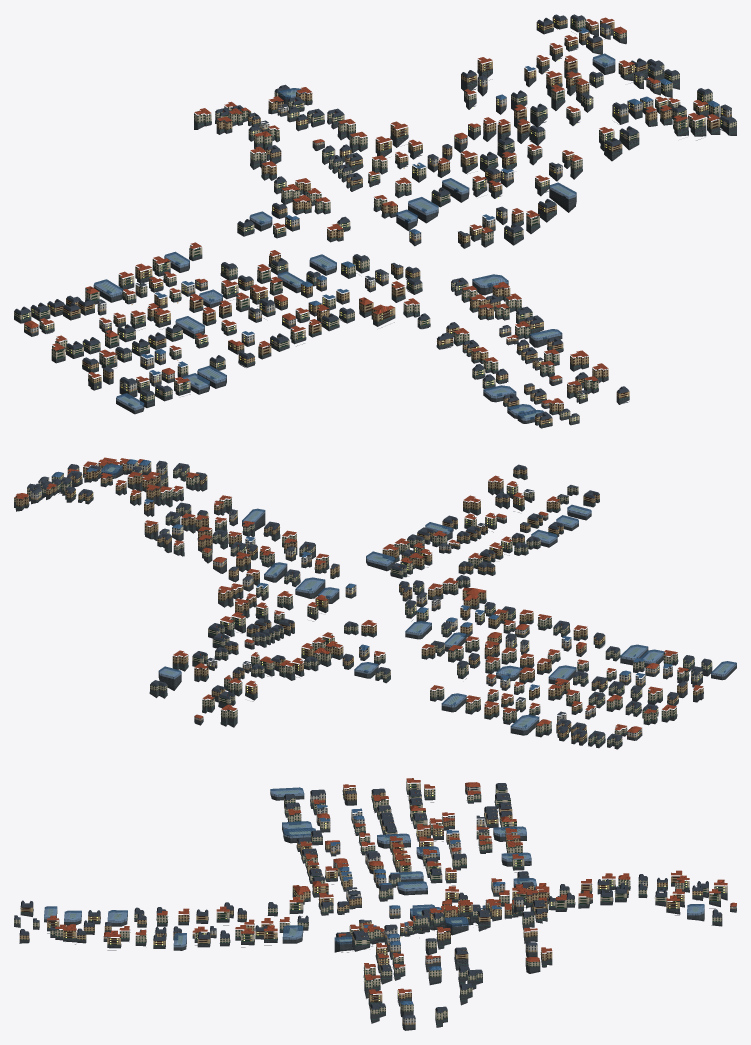
Rendered from osm_buildings_T_E02_N02_Q4.glb.
The picture shows the model from 3 angles, top to bottom: view 1: azimuth 30°, elevation 25°; view 2: azimuth 150°, elevation 25°; view 3: azimuth 270°, elevation 25°; orthographic projection. The views are drawn at different scales.
Parts seen in each view (by area): view 1: OSM_T_E02_N02_Q4_foundation, OSM_T_E02_N02_Q4_wall_cream_stucco, OSM_T_E02_N02_Q4_wall_french_ochre, OSM_T_E02_N02_Q4_roof_terracotta, OSM_T_E02_N02_Q4_roof_mansard_slate, OSM_T_E02_N02_Q4_greenhouse_blend, OSM_T_E02_N02_Q4_roof_mansard_deck, OSM_T_E02_N02_Q4_roof_mint_metal, OSM_T_E02_N02_Q4_wall_warm_white, OSM_T_E02_N02_Q4_trim_cornice, OSM_T_E02_N02_Q4_balcony_railing, OSM_T_E02_N02_Q4_window_emissive_warm (+3 smaller); view 2: OSM_T_E02_N02_Q4_foundation, OSM_T_E02_N02_Q4_wall_cream_stucco, OSM_T_E02_N02_Q4_wall_french_ochre, OSM_T_E02_N02_Q4_roof_terracotta, OSM_T_E02_N02_Q4_roof_mansard_slate, OSM_T_E02_N02_Q4_greenhouse_blend, OSM_T_E02_N02_Q4_roof_mansard_deck, OSM_T_E02_N02_Q4_trim_cornice, OSM_T_E02_N02_Q4_roof_mint_metal, OSM_T_E02_N02_Q4_wall_warm_white, OSM_T_E02_N02_Q4_roof_alpine_blue, OSM_T_E02_N02_Q4_wall_pastel_sand (+2 smaller); view 3: OSM_T_E02_N02_Q4_foundation, OSM_T_E02_N02_Q4_wall_cream_stucco, OSM_T_E02_N02_Q4_roof_terracotta, OSM_T_E02_N02_Q4_wall_french_ochre, OSM_T_E02_N02_Q4_roof_mansard_slate, OSM_T_E02_N02_Q4_greenhouse_blend, OSM_T_E02_N02_Q4_roof_mansard_deck, OSM_T_E02_N02_Q4_trim_cornice, OSM_T_E02_N02_Q4_roof_mint_metal, OSM_T_E02_N02_Q4_wall_pastel_sand, OSM_T_E02_N02_Q4_wall_warm_white, OSM_T_E02_N02_Q4_balcony_railing (+2 smaller).
Part boxes in pixels (x1,y1,x2,y2): OSM_T_E02_N02_Q4_foundation: (14, 23, 736, 428); OSM_T_E02_N02_Q4_wall_cream_stucco: (14, 17, 736, 422); OSM_T_E02_N02_Q4_wall_french_ochre: (47, 17, 720, 424); OSM_T_E02_N02_Q4_roof_terracotta: (24, 17, 719, 403); OSM_T_E02_N02_Q4_roof_mansard_slate: (14, 15, 736, 420); OSM_T_E02_N02_Q4_greenhouse_blend: (93, 53, 615, 420); OSM_T_E02_N02_Q4_roof_mansard_deck: (16, 14, 734, 418); OSM_T_E02_N02_Q4_roof_mint_metal: (15, 22, 736, 425); OSM_T_E02_N02_Q4_wall_warm_white: (24, 97, 642, 392); OSM_T_E02_N02_Q4_trim_cornice: (14, 19, 730, 422); OSM_T_E02_N02_Q4_balcony_railing: (22, 20, 726, 422); OSM_T_E02_N02_Q4_window_emissive_warm: (25, 21, 722, 420); OSM_T_E02_N02_Q4_foundation: (14, 468, 736, 749); OSM_T_E02_N02_Q4_wall_cream_stucco: (14, 461, 712, 745); OSM_T_E02_N02_Q4_wall_french_ochre: (15, 463, 703, 741); OSM_T_E02_N02_Q4_roof_terracotta: (14, 457, 703, 735); OSM_T_E02_N02_Q4_roof_mansard_slate: (27, 462, 711, 741); OSM_T_E02_N02_Q4_greenhouse_blend: (101, 464, 736, 730); OSM_T_E02_N02_Q4_roof_mansard_deck: (29, 460, 735, 738); OSM_T_E02_N02_Q4_trim_cornice: (15, 461, 708, 743); OSM_T_E02_N02_Q4_roof_mint_metal: (16, 470, 711, 745); OSM_T_E02_N02_Q4_wall_warm_white: (139, 461, 702, 737); OSM_T_E02_N02_Q4_roof_alpine_blue: (52, 459, 672, 689); OSM_T_E02_N02_Q4_wall_pastel_sand: (31, 461, 631, 720); OSM_T_E02_N02_Q4_foundation: (14, 787, 736, 1030); OSM_T_E02_N02_Q4_wall_cream_stucco: (14, 780, 727, 1020); OSM_T_E02_N02_Q4_roof_terracotta: (47, 778, 736, 994); OSM_T_E02_N02_Q4_wall_french_ochre: (19, 786, 703, 1002); OSM_T_E02_N02_Q4_roof_mansard_slate: (14, 783, 721, 1018); OSM_T_E02_N02_Q4_greenhouse_blend: (44, 787, 704, 947); OSM_T_E02_N02_Q4_roof_mansard_deck: (21, 783, 720, 1010); OSM_T_E02_N02_Q4_trim_cornice: (14, 786, 734, 1018); OSM_T_E02_N02_Q4_roof_mint_metal: (20, 791, 726, 1024); OSM_T_E02_N02_Q4_wall_pastel_sand: (75, 814, 736, 1025); OSM_T_E02_N02_Q4_wall_warm_white: (103, 784, 663, 944); OSM_T_E02_N02_Q4_balcony_railing: (19, 785, 725, 1001).
Bounding box in the file's own units: 959 × 220 × 929.
Materials: 16 (16 with a texture image).
